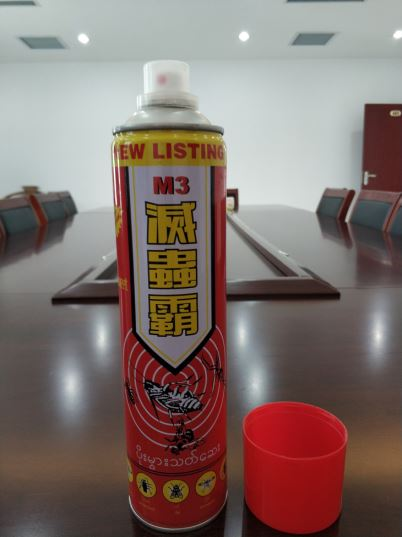Insecticide: (108, 56, 238, 537)
